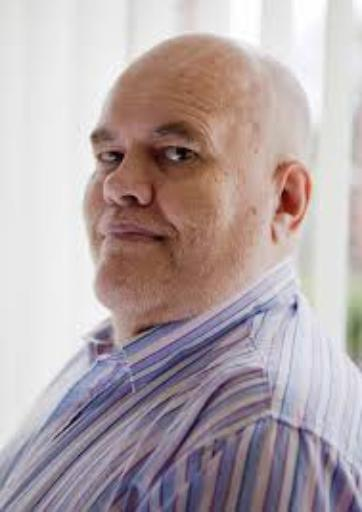left_eye: (96, 149, 127, 170)
left_lip_corner: (151, 229, 172, 248)
right_eye: (158, 145, 205, 171)
right_lip_corner: (98, 226, 116, 244)
